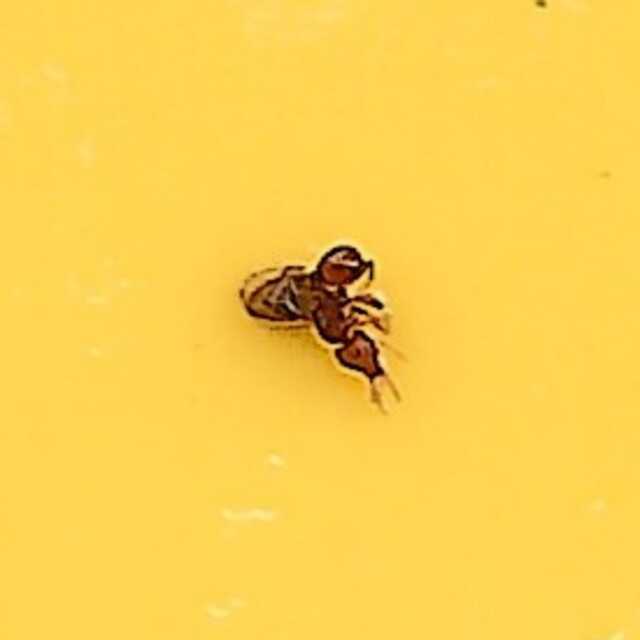Hymenoptera: (233, 229, 407, 411)
